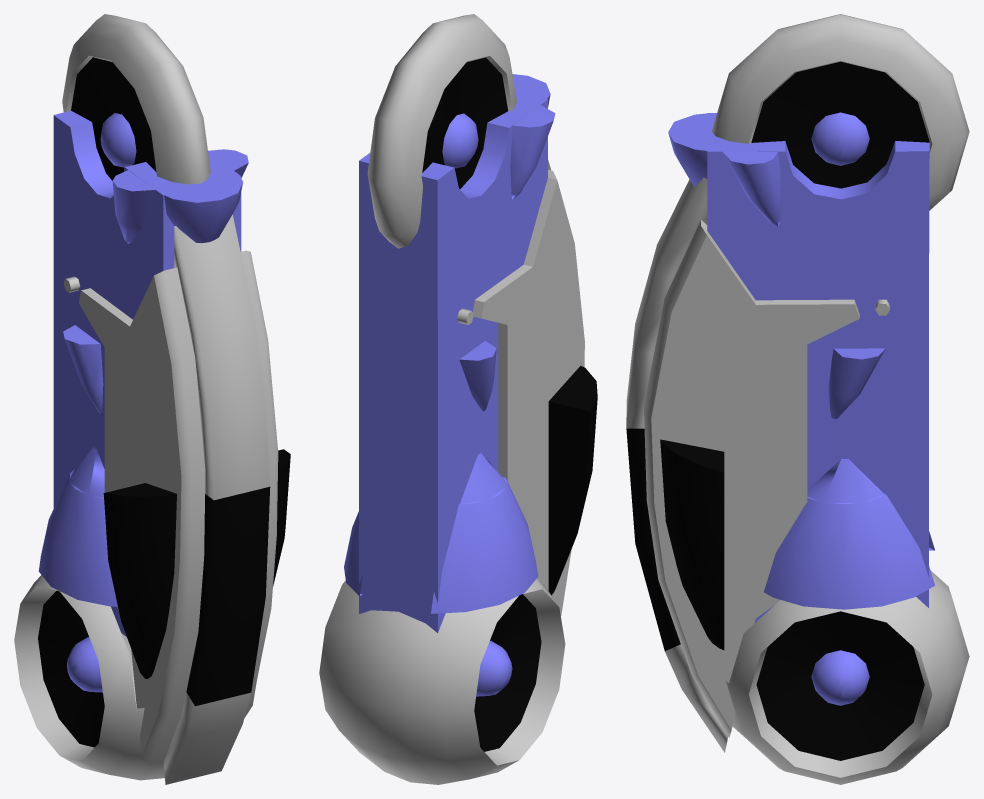
The model's file is lightcycle high.obj.
3 views of the same model, side by side, from view 1: azimuth 30°, elevation 25°; view 2: azimuth 150°, elevation 25°; view 3: azimuth 270°, elevation 25° (orthographic).
Bounding box in the file's own units: 93.51 × 371 × 152.
